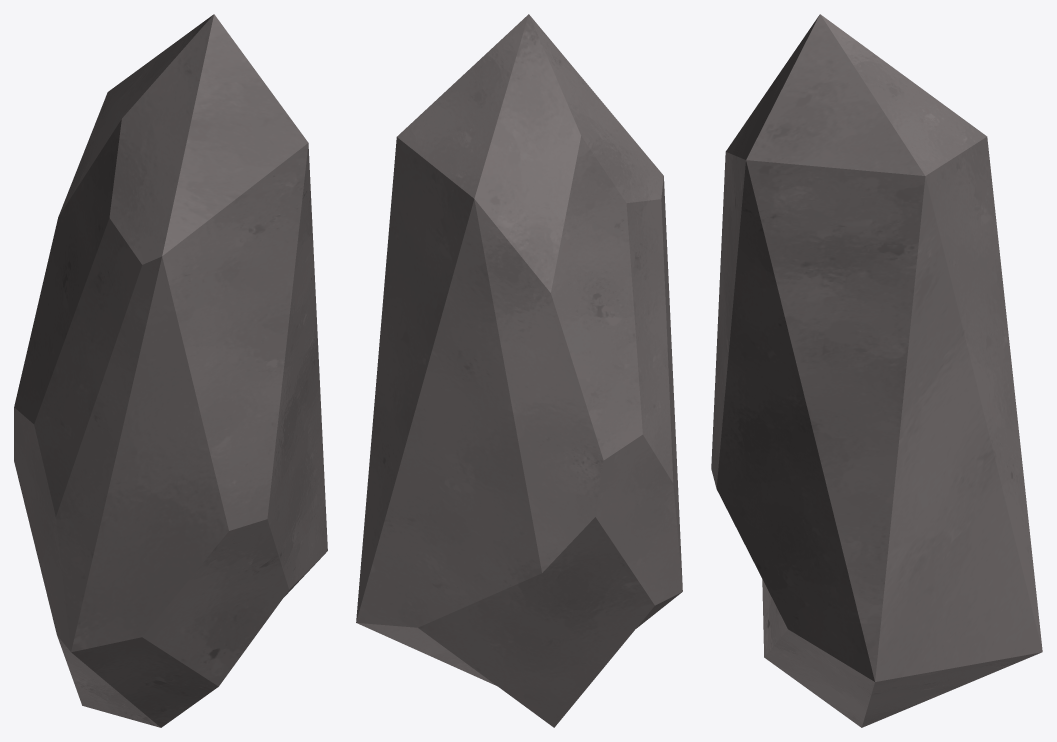
Rendered from Stone_ver4.fbx.
The picture shows the model from 3 angles, left to right: view 1: azimuth 30°, elevation 25°; view 2: azimuth 150°, elevation 25°; view 3: azimuth 270°, elevation 25°; orthographic projection. The views are drawn at different scales.
Parts seen in each view (by area): view 1: Icosphere.006; view 2: Icosphere.006; view 3: Icosphere.006.
Boxes of the visible parts, bbox=[...] form: Icosphere.006: bbox=[14, 14, 327, 727]; Icosphere.006: bbox=[356, 14, 682, 727]; Icosphere.006: bbox=[711, 14, 1042, 727].
Bounding box in the file's own units: 71.15 × 165 × 67.75.
